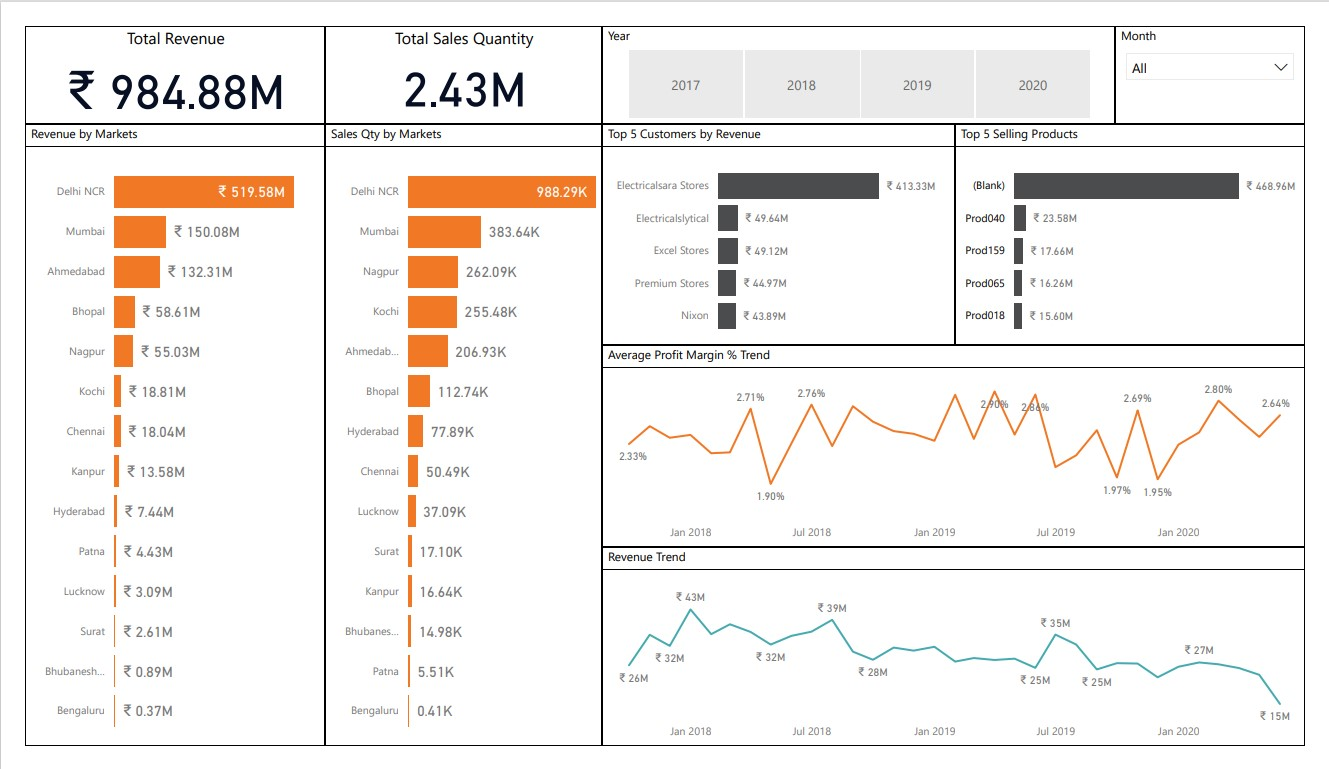

This screenshot's page, from the dashboard's own definition file:
{"tool":"powerbi","page":{"name":"Key Insights","canvas":[1280,720],"ordinal":0},"visuals":[{"type":"card","title":"Total Revenue","fields":{"Values":["BaseMeasures.Revenue"]},"box":[0,0,299.9,98],"z":0},{"type":"card","title":"Total Sales Quantity","fields":{"Values":["BaseMeasures.Sales Qty"]},"box":[299.9,0,277.1,98],"z":1000},{"type":"barChart","title":"Top 5 Customers by Revenue","fields":{"Y":["BaseMeasures.Revenue"],"Category":["sales customers.custmer_name"]},"box":[577,98,353.3,220.7],"z":2000},{"type":"barChart","title":"Sales Qty by Markets","fields":{"Y":["BaseMeasures.Sales Qty"],"Category":["sales markets.markets_name"]},"box":[299.9,98,277.1,622.5],"z":3000},{"type":"slicer","title":"Year","fields":{"Values":["sales date.year"]},"box":[577,0,512.7,98],"z":4000},{"type":"slicer","title":"Month","fields":{"Values":["sales date.month_name"]},"box":[1089.6,0,190,98],"z":5000},{"type":"barChart","title":"Revenue by Markets","fields":{"Y":["BaseMeasures.Revenue"],"Category":["sales markets.markets_name"]},"box":[0,98,299.9,622.5],"z":6000},{"type":"barChart","title":"Top 5 Selling Products","fields":{"Y":["BaseMeasures.Revenue"],"Category":["sales products.product_code"]},"box":[930.3,98,349.4,220.7],"z":7000},{"type":"lineChart","title":"Average Profit Margin % Trend","fields":{"Category":["sales date.cy_date"],"Y":["Avg(sales transactions.profit_margin_percentage)"]},"box":[577,318.7,702.7,201.9],"z":8000},{"type":"lineChart","title":"Revenue Trend","fields":{"Y":["BaseMeasures.Revenue"],"Category":["sales date.cy_date"]},"box":[577,520.6,702.7,199.9],"z":9000}]}

Visuals, with their boxes in screenshot pixels (x1, y1, x2, y2), scaled from the page's 1280x720 canvas onto the 1329x769 screenshot:
"Total Revenue" card: 0, 0, 311, 105
"Total Sales Quantity" card: 311, 0, 599, 105
"Top 5 Customers by Revenue" barChart: 599, 105, 966, 340
"Sales Qty by Markets" barChart: 311, 105, 599, 768
"Year" slicer: 599, 0, 1131, 105
"Month" slicer: 1131, 0, 1328, 105
"Revenue by Markets" barChart: 0, 105, 311, 768
"Top 5 Selling Products" barChart: 966, 105, 1328, 340
"Average Profit Margin % Trend" lineChart: 599, 340, 1328, 556
"Revenue Trend" lineChart: 599, 556, 1328, 768
